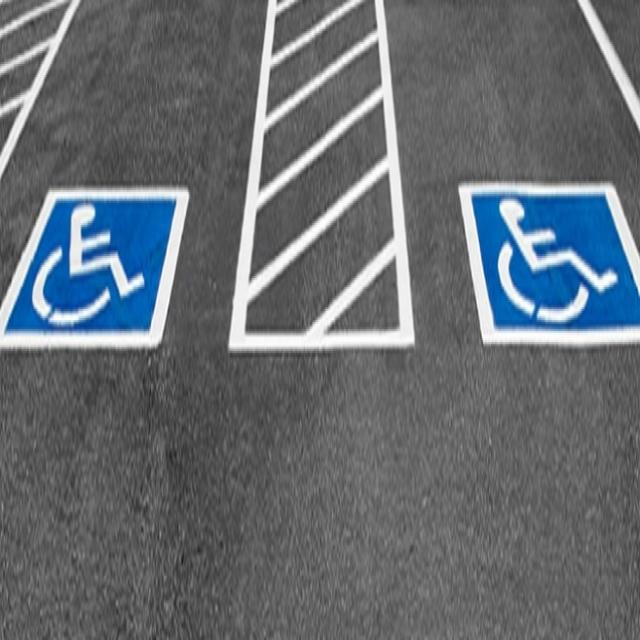discapacitados: (0, 0, 272, 354), (380, 1, 639, 360)
